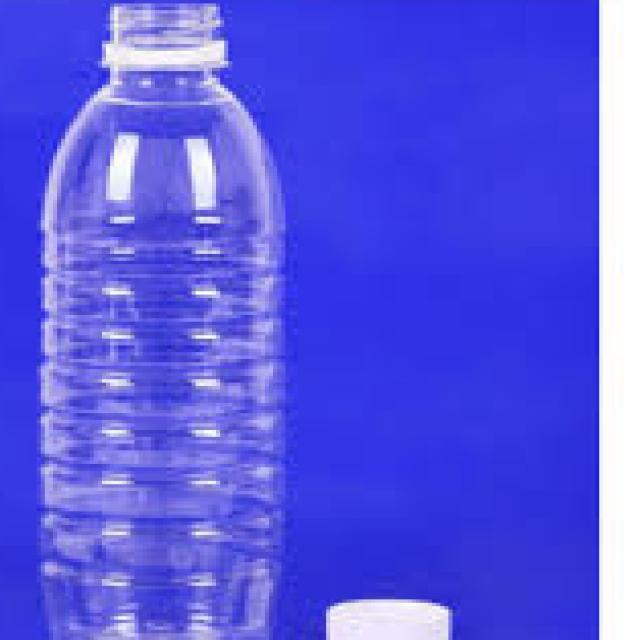organic: (56, 5, 471, 635)
